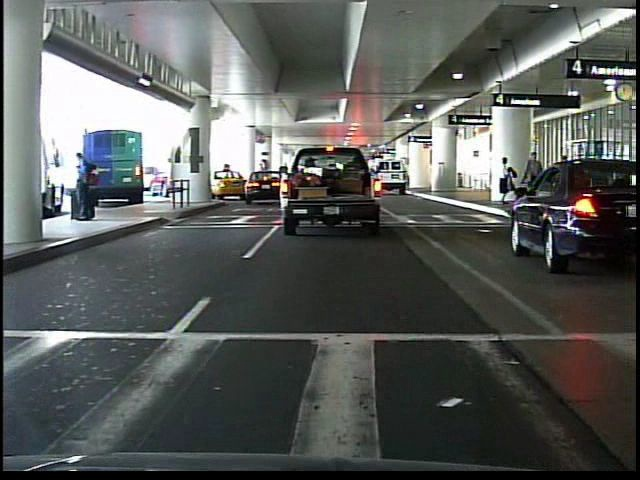person: (70, 148, 102, 232), (520, 148, 546, 210), (494, 155, 518, 209)
